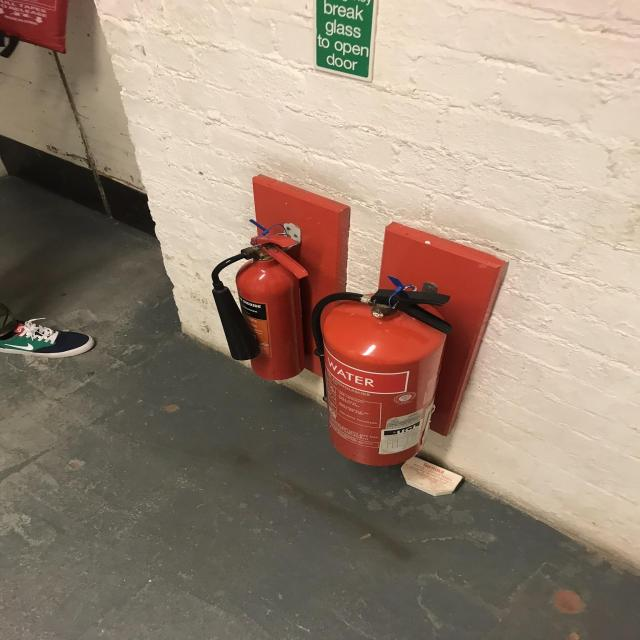fire_extinguisher: (311, 277, 460, 470), (206, 225, 314, 384)
